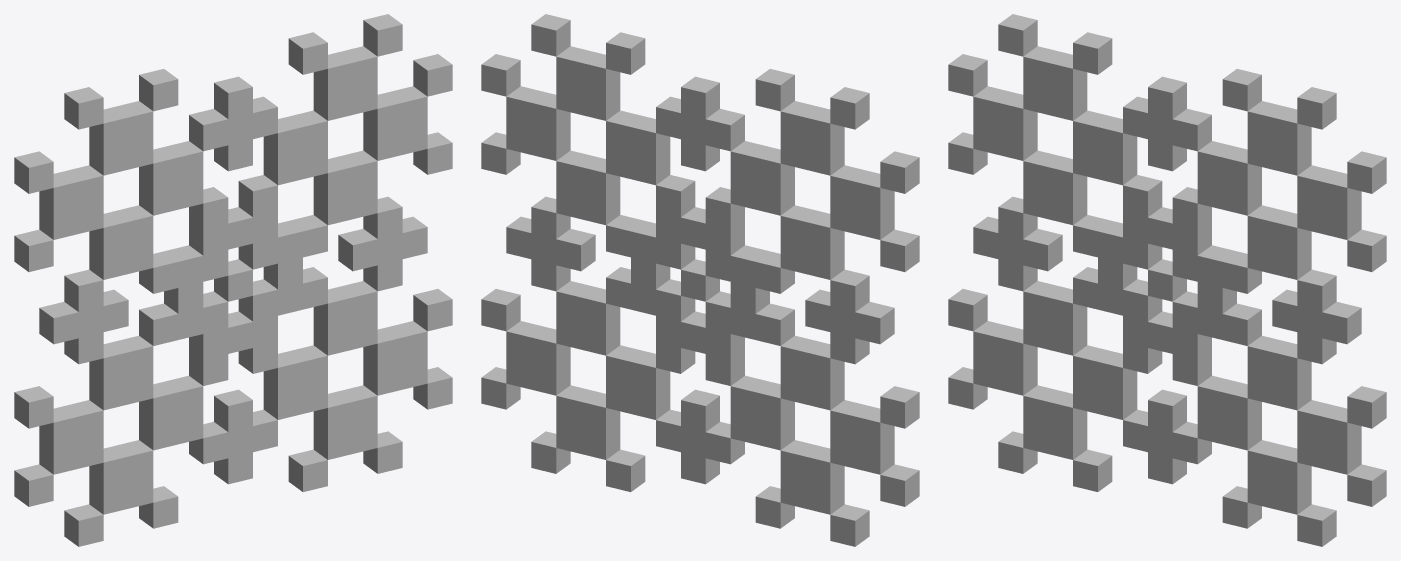
The model's file is Web_1.glb.
The picture shows the model from 3 angles, left to right: view 1: azimuth 30°, elevation 25°; view 2: azimuth 150°, elevation 25°; view 3: azimuth 330°, elevation 25°; orthographic projection.
Parts seen in each view (by area): view 1: Untitled; view 2: Untitled; view 3: Untitled.
Part boxes in pixels (x1,y1,x2,y2): Untitled: (14,14,452,546); Untitled: (481,14,919,546); Untitled: (948,14,1386,546).
Size of the model in its own units: 1.7 by 1.7 by 0.1.
1 material, 1 textured.
